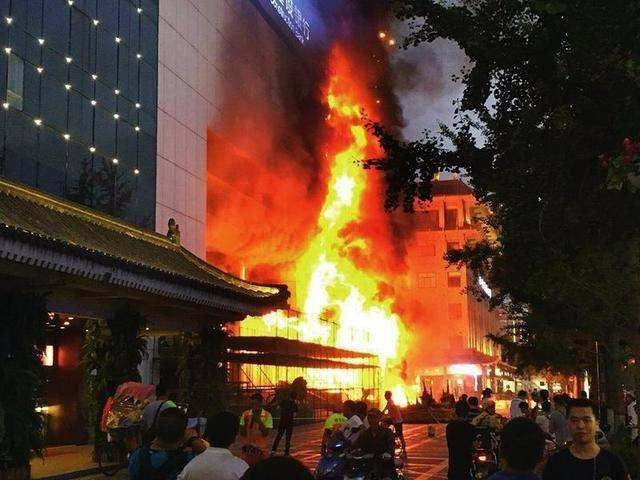fire: (292, 61, 404, 389)
